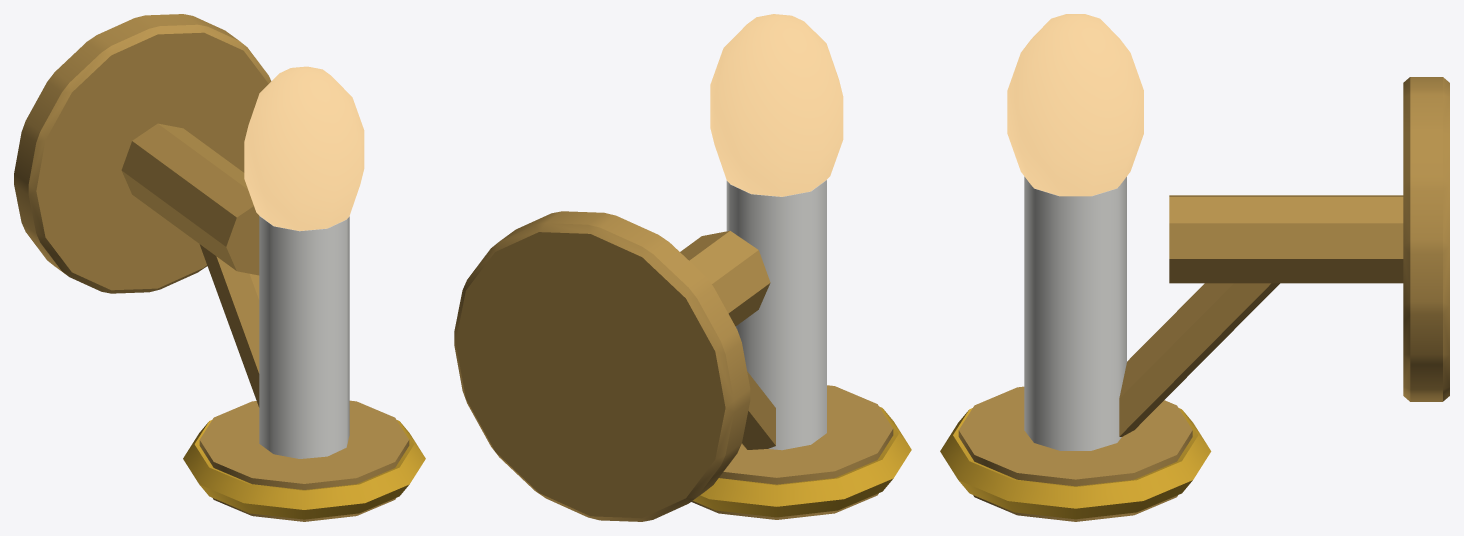
File: sconce_brass_candle_sconce.glb
3 renders of one model, left to right at view 1: azimuth 30°, elevation 25°; view 2: azimuth 150°, elevation 25°; view 3: azimuth 270°, elevation 25°, orthographic. The views are drawn at different scales.
Visible parts, largest first — view 1: sconce_brass_candle_sconce; view 2: sconce_brass_candle_sconce; view 3: sconce_brass_candle_sconce.
Boxes of the visible parts, <box> form: sconce_brass_candle_sconce: <box>14,14,425,521</box>; sconce_brass_candle_sconce: <box>454,14,911,521</box>; sconce_brass_candle_sconce: <box>940,14,1449,521</box>.
Size of the model in its own units: 0.1388 by 0.215 by 0.218.
